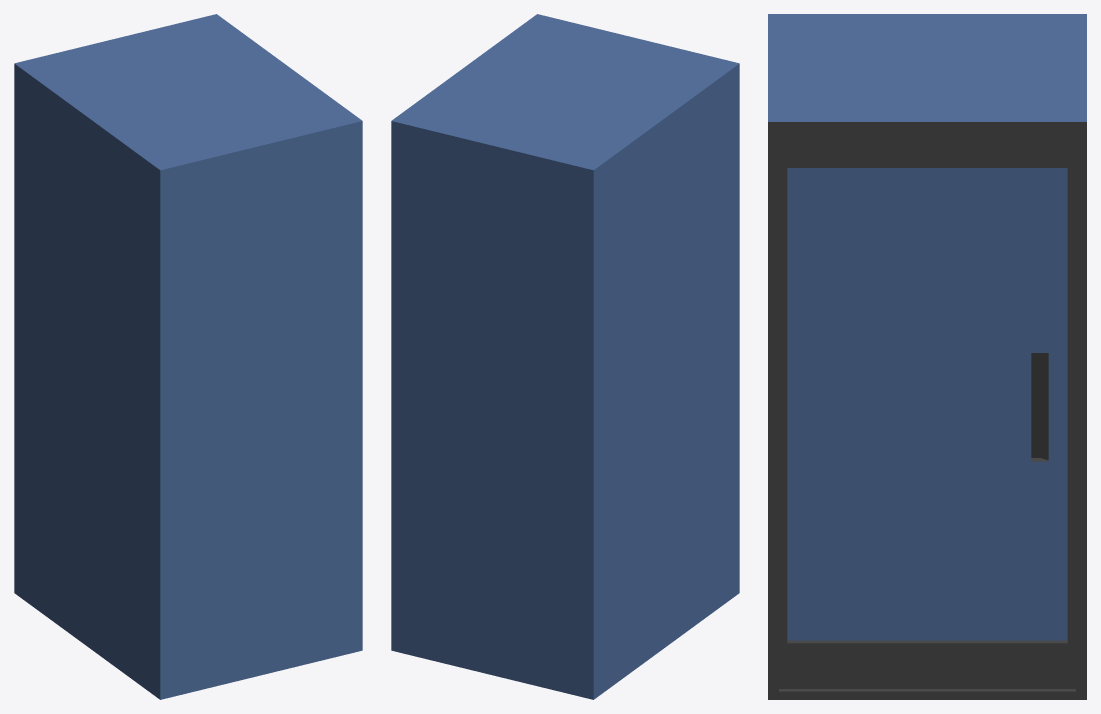
The model's file is TapeReel_3.fbx.
3 views of the same model, side by side, from view 1: azimuth 30°, elevation 25°; view 2: azimuth 150°, elevation 25°; view 3: azimuth 270°, elevation 25° (orthographic). The views are drawn at different scales.
Parts seen in each view (by area): view 1: Cube; view 2: Cube; view 3: Cube.
Part boxes in pixels (<box>): Cube: <box>14,14,362,699</box>; Cube: <box>391,14,739,699</box>; Cube: <box>768,14,1086,699</box>.
Bounding box in the file's own units: 80 × 200 × 100.
